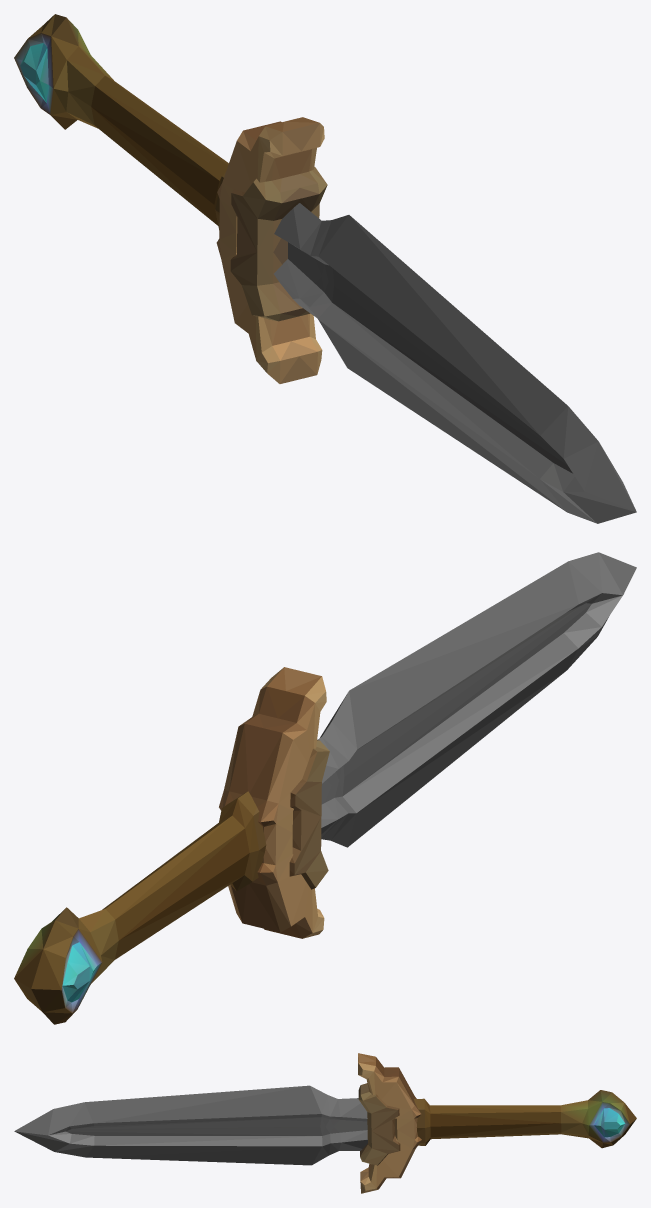
Rendered from weapon_sword_gold_2.fbx.
3 views of the same model, one above another, from view 1: azimuth 30°, elevation 25°; view 2: azimuth 150°, elevation 25°; view 3: azimuth 270°, elevation 25° (orthographic). The views are drawn at different scales.
Visible parts, largest first — view 1: weapon_sword_gold_2; view 2: weapon_sword_gold_2; view 3: weapon_sword_gold_2.
Part boxes in pixels (x1,y1,x2,y2): weapon_sword_gold_2: [14, 14, 636, 523]; weapon_sword_gold_2: [14, 552, 636, 1024]; weapon_sword_gold_2: [14, 1053, 636, 1193].
Bounding box in the file's own units: 0.1205 × 0.4718 × 2.03.
